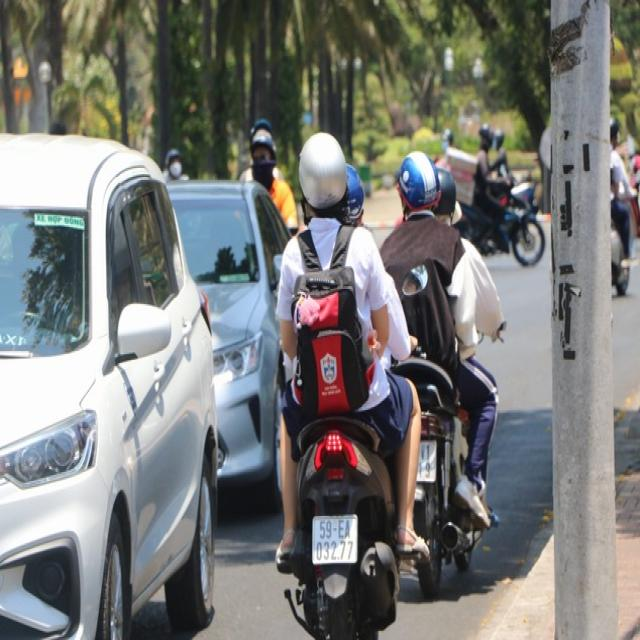helmet: (294, 126, 348, 213)
